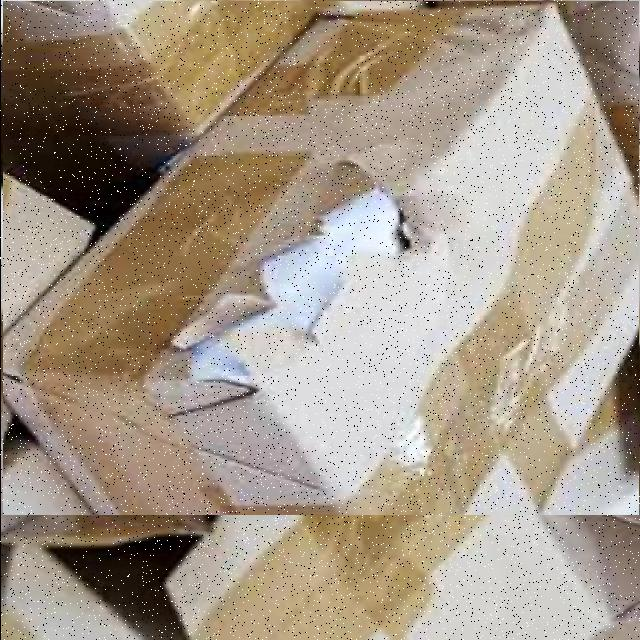defect: (2, 2, 638, 516)
